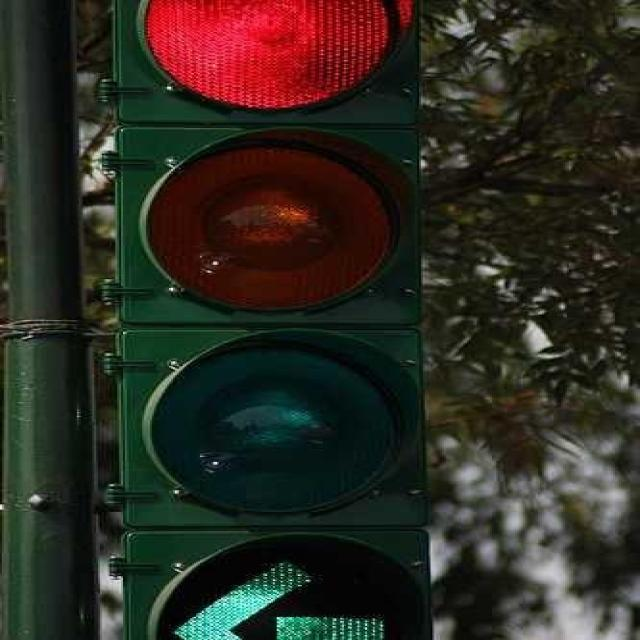Traffic Light -Red-: (88, 1, 444, 640)
